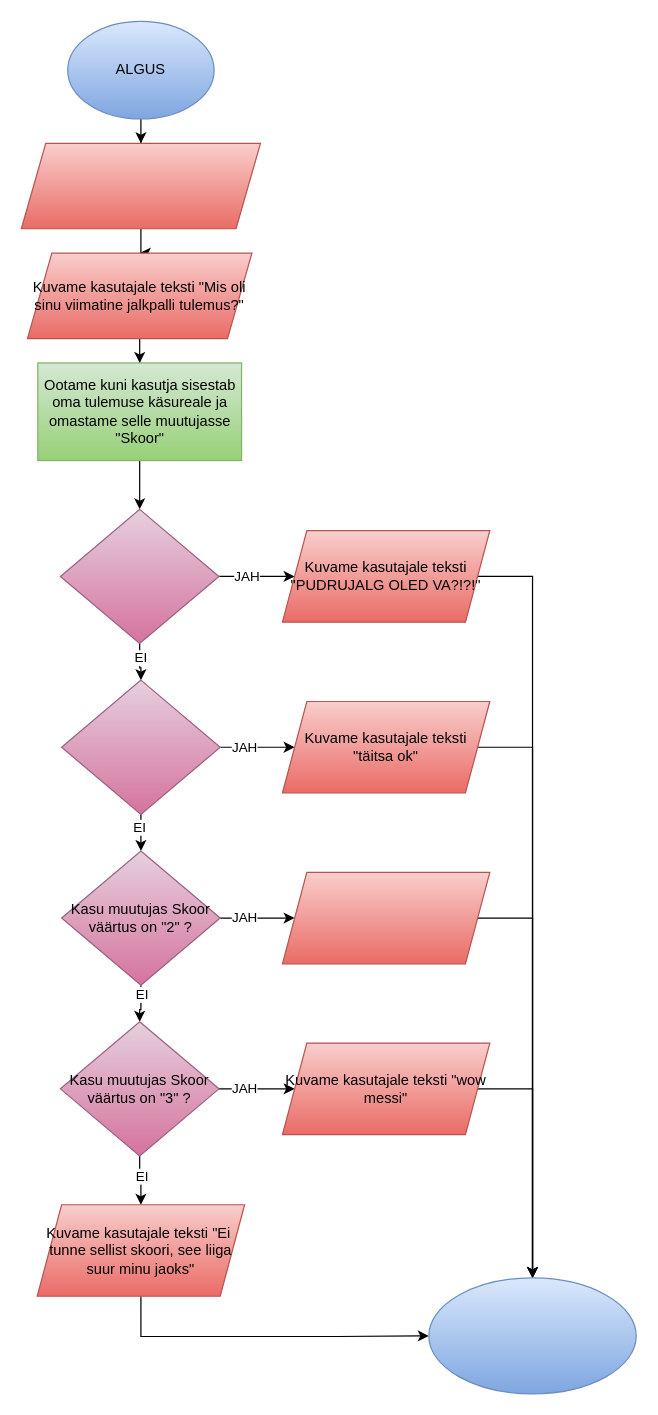
The diagram is 658 pixels wide and 1415 high, and some of its shapes have lost their labels. The centre of each missing label's shape, as x and y in pixels:
Kasu muutujas Skoor väärtus on "0" ?: point 139,576
Kasu muutujas Skoor väärtus on "1" ?: point 140,746
Kuvame kasutajale teksti "no see juba on parem": point 385,917
LÕPP: point 532,1335
Tekitame täisarvulise muutuja "Skoor" ning omandame sellesse algväärtuse "0": point 140,185
